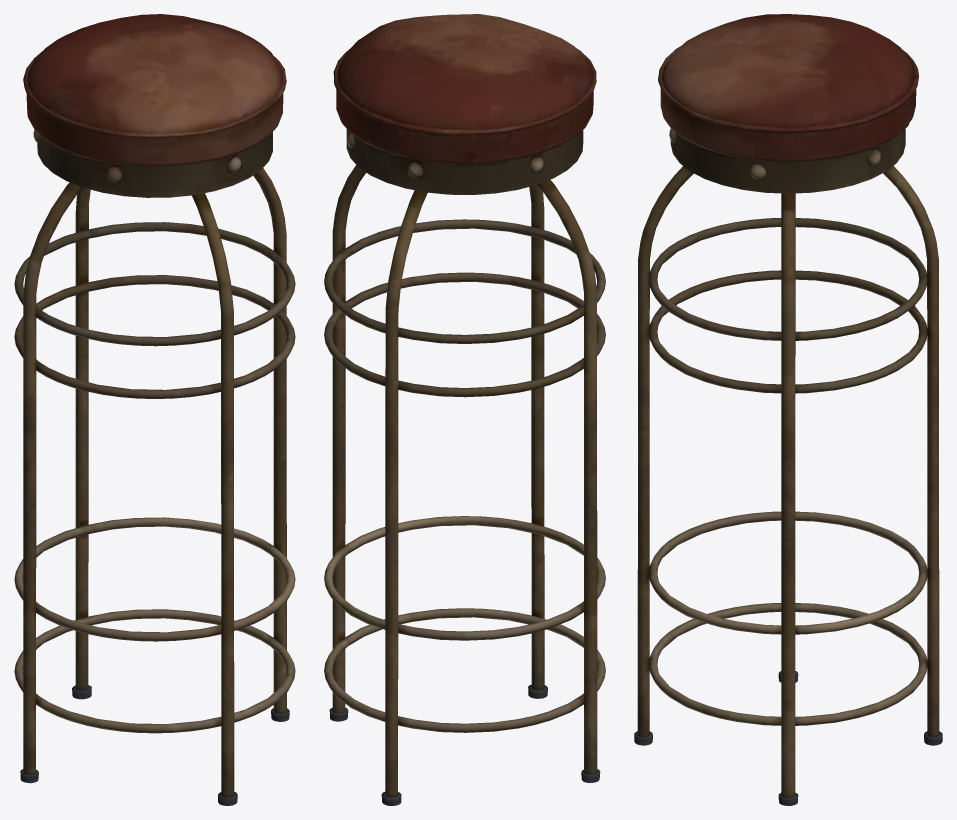
The model's file is sgabello.glb.
3 views of the same model, side by side, from view 1: azimuth 30°, elevation 25°; view 2: azimuth 150°, elevation 25°; view 3: azimuth 270°, elevation 25° (orthographic).
Parts seen in each view (by area): view 1: metal_stool_01; view 2: metal_stool_01; view 3: metal_stool_01.
Boxes of the visible parts, box(x1,y1,x2,y2) form: metal_stool_01: box(14, 14, 295, 805); metal_stool_01: box(324, 14, 605, 805); metal_stool_01: box(634, 14, 942, 805).
Bounding box in the file's own units: 0.352 × 0.8827 × 0.3546.
Materials: 1 (1 with a texture image).
